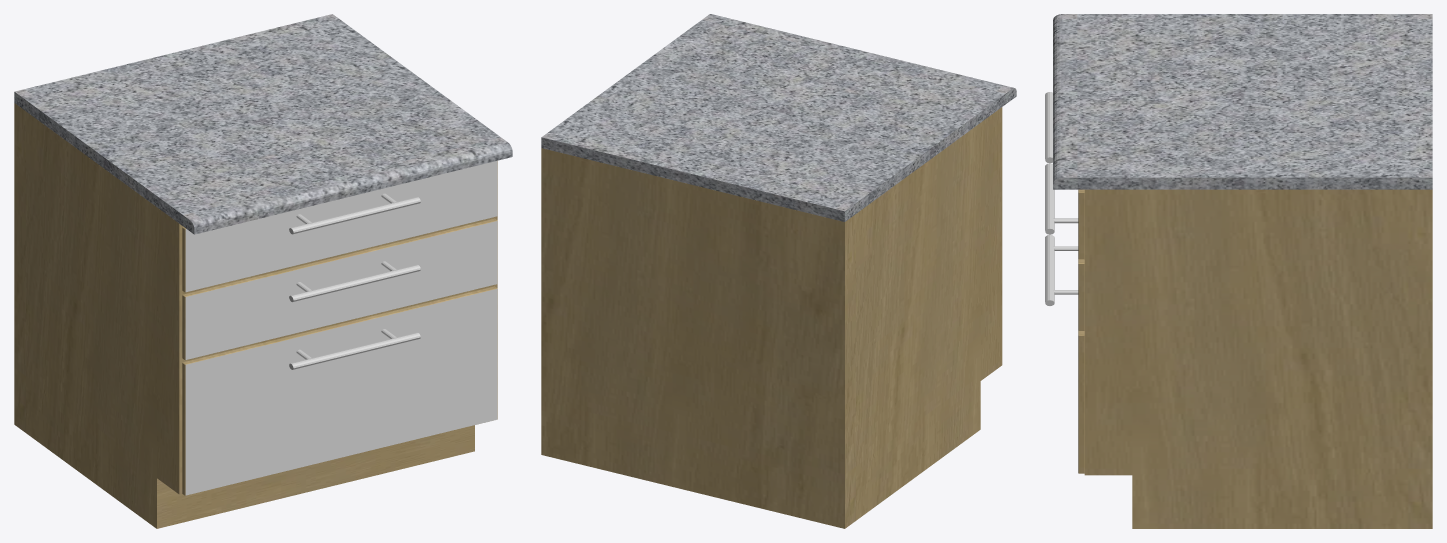
File: sh-bs0-drawers-cabinet.glb
3 views of the same model, side by side, from view 1: azimuth 30°, elevation 25°; view 2: azimuth 150°, elevation 25°; view 3: azimuth 270°, elevation 25° (orthographic). The views are drawn at different scales.
Parts seen in each view (by area): view 1: GC_25H/25H/50H.001_Cube.327; view 2: GC_25H/25H/50H.001_Cube.327; view 3: GC_25H/25H/50H.001_Cube.327.
Boxes of the visible parts, bbox=[...] form: GC_25H/25H/50H.001_Cube.327: bbox=[14, 14, 512, 528]; GC_25H/25H/50H.001_Cube.327: bbox=[541, 14, 1016, 528]; GC_25H/25H/50H.001_Cube.327: bbox=[1045, 14, 1432, 528].
Bounding box in the file's own units: 1 × 1 × 1.
4 materials, 2 textured.
